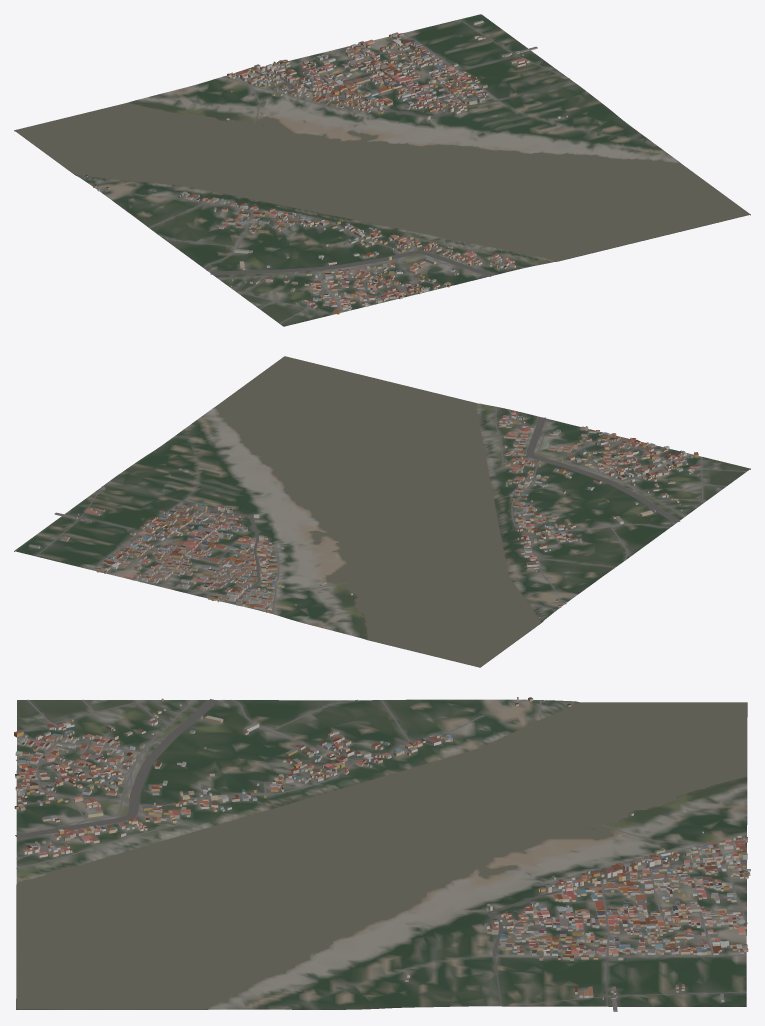
3 renders of one model, top to bottom at view 1: azimuth 30°, elevation 25°; view 2: azimuth 150°, elevation 25°; view 3: azimuth 270°, elevation 25°, orthographic. The views are drawn at different scales.
Parts seen in each view (by area): view 1: ground, water, buildings, roads; view 2: water, ground, buildings, roads; view 3: ground, water, buildings, roads.
Boxes of the visible parts, x1,y1,x2,y2 form: ground: (14, 14, 750, 326); water: (15, 103, 749, 260); buildings: (85, 20, 567, 314); roads: (88, 19, 571, 323); water: (216, 356, 540, 667); ground: (14, 357, 750, 667); buildings: (29, 411, 699, 617); roads: (36, 406, 746, 613); ground: (16, 699, 747, 1009); water: (16, 702, 746, 1009); buildings: (14, 697, 750, 1011); roads: (15, 699, 747, 1006).
Size of the model in its own units: 1426 by 22.54 by 1414.
